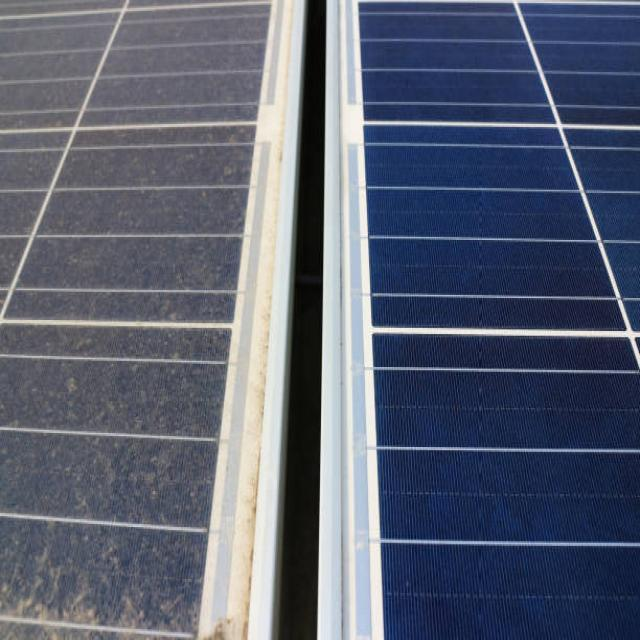Normal Solar Panel: (325, 0, 639, 640)
